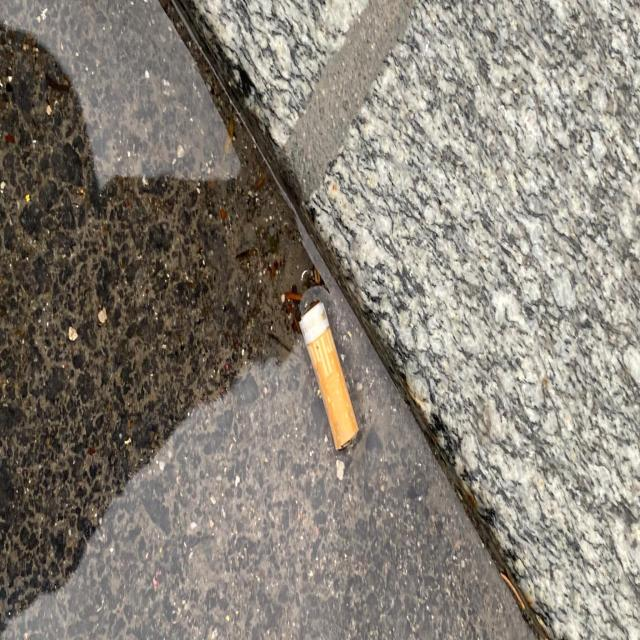other waste: (297, 299, 359, 452)
